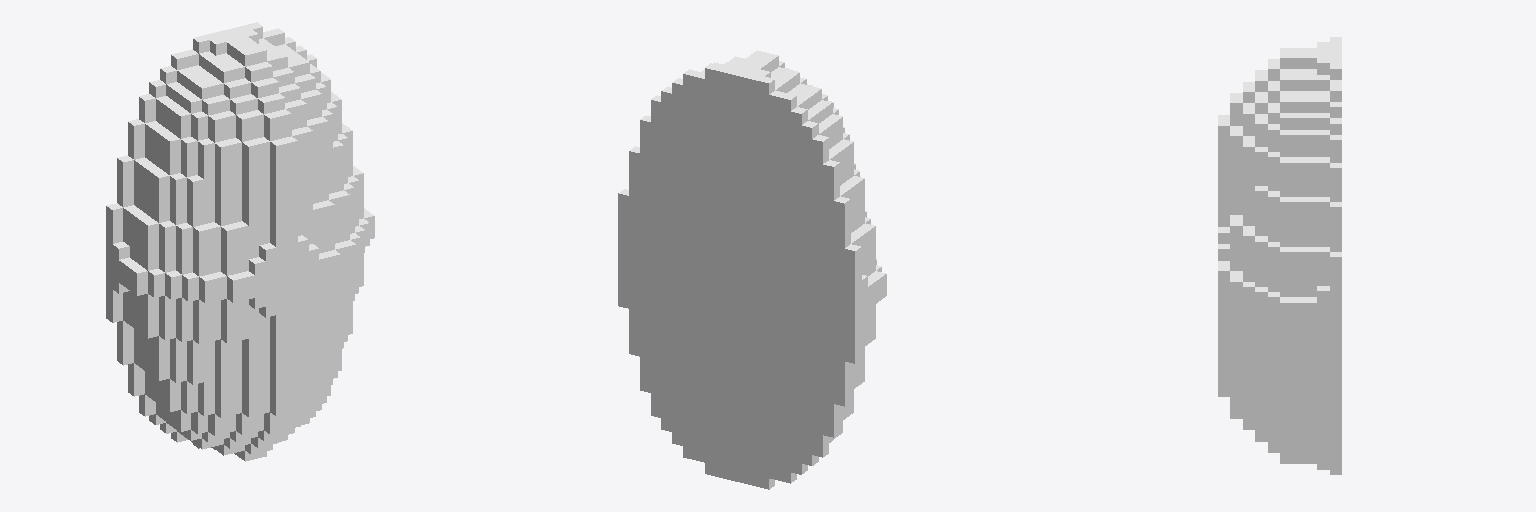
File: fonar.obj
3 views of the same model, side by side, from view 1: azimuth 30°, elevation 25°; view 2: azimuth 150°, elevation 25°; view 3: azimuth 270°, elevation 25° (orthographic).
Visible parts, largest first — view 1: object 1; view 2: object 1; view 3: object 1.
Boxes of the visible parts, <box> form: object 1: <box>106,22,374,461</box>; object 1: <box>618,50,886,489</box>; object 1: <box>1218,37,1341,474</box>.
Bounding box in the file's own units: 2.2 × 3.6 × 1.